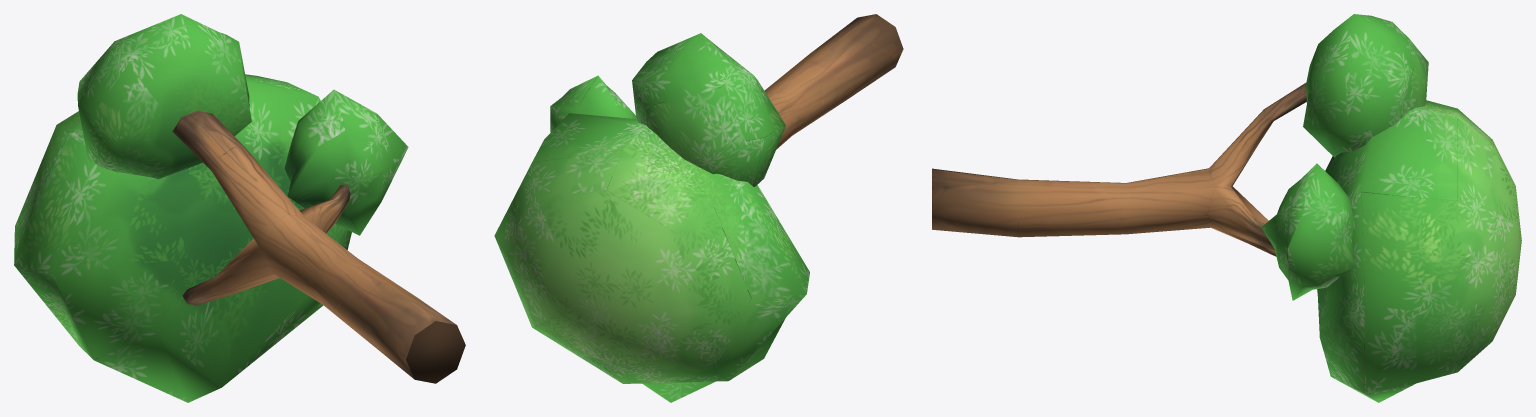
File: tree baru 4.fbx
3 renders of one model, left to right at view 1: azimuth 30°, elevation 25°; view 2: azimuth 150°, elevation 25°; view 3: azimuth 270°, elevation 25°, orthographic. The views are drawn at different scales.
Visible parts, largest first — view 1: Cylinder.007; view 2: Cylinder.007; view 3: Cylinder.007.
Boxes of the visible parts, x1,y1,x2,y2 form: Cylinder.007: (14,14,465,402); Cylinder.007: (494,14,903,402); Cylinder.007: (932,14,1521,402).
Size of the model in its own units: 412 by 474 by 668.
